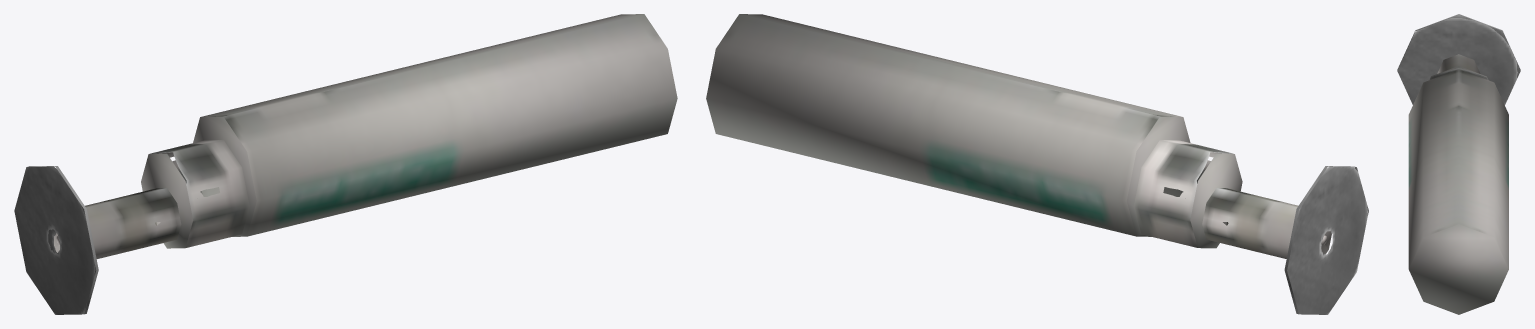
The model's file is cast_saw.FBX.
3 views of the same model, side by side, from view 1: azimuth 30°, elevation 25°; view 2: azimuth 150°, elevation 25°; view 3: azimuth 270°, elevation 25° (orthographic). The views are drawn at different scales.
Parts seen in each view (by area): view 1: cast_saw; view 2: cast_saw; view 3: cast_saw.
Boxes of the visible parts, x1,y1,x2,y2 form: cast_saw: (14,14,677,314); cast_saw: (706,14,1368,314); cast_saw: (1397,14,1520,314).
Size of the model in its own units: 33.87 by 8.64 by 8.15.
